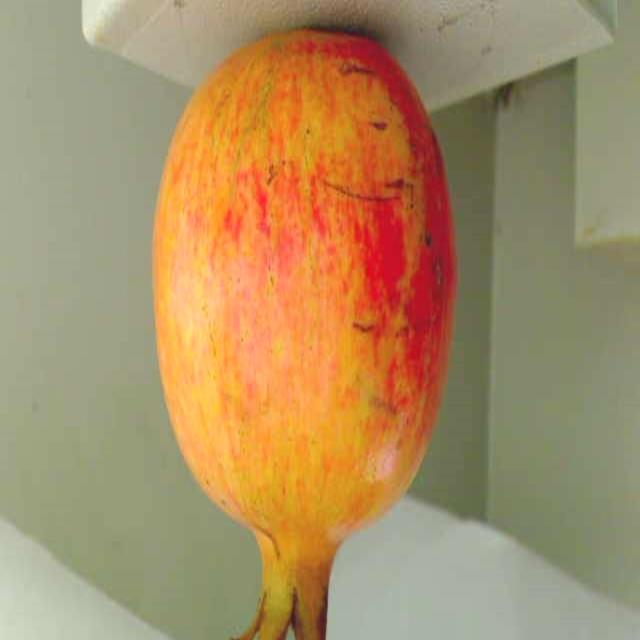pomegranate: (138, 0, 468, 640)
